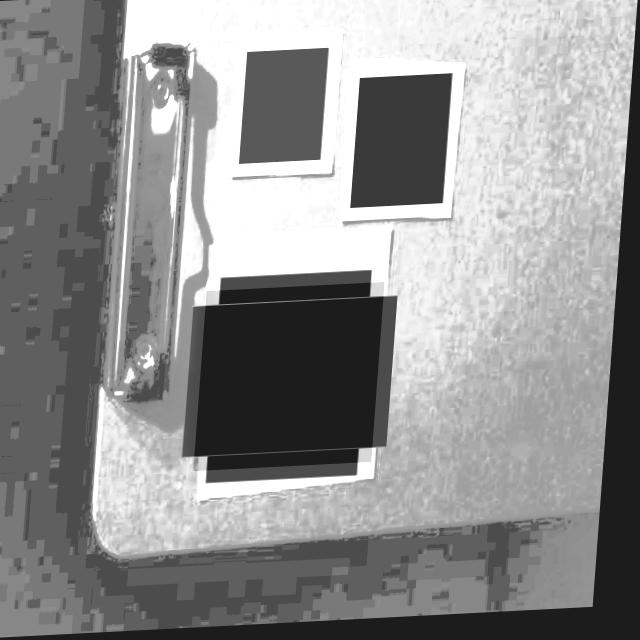qr_code: (201, 285, 389, 473), (354, 77, 454, 211), (242, 50, 330, 166)
